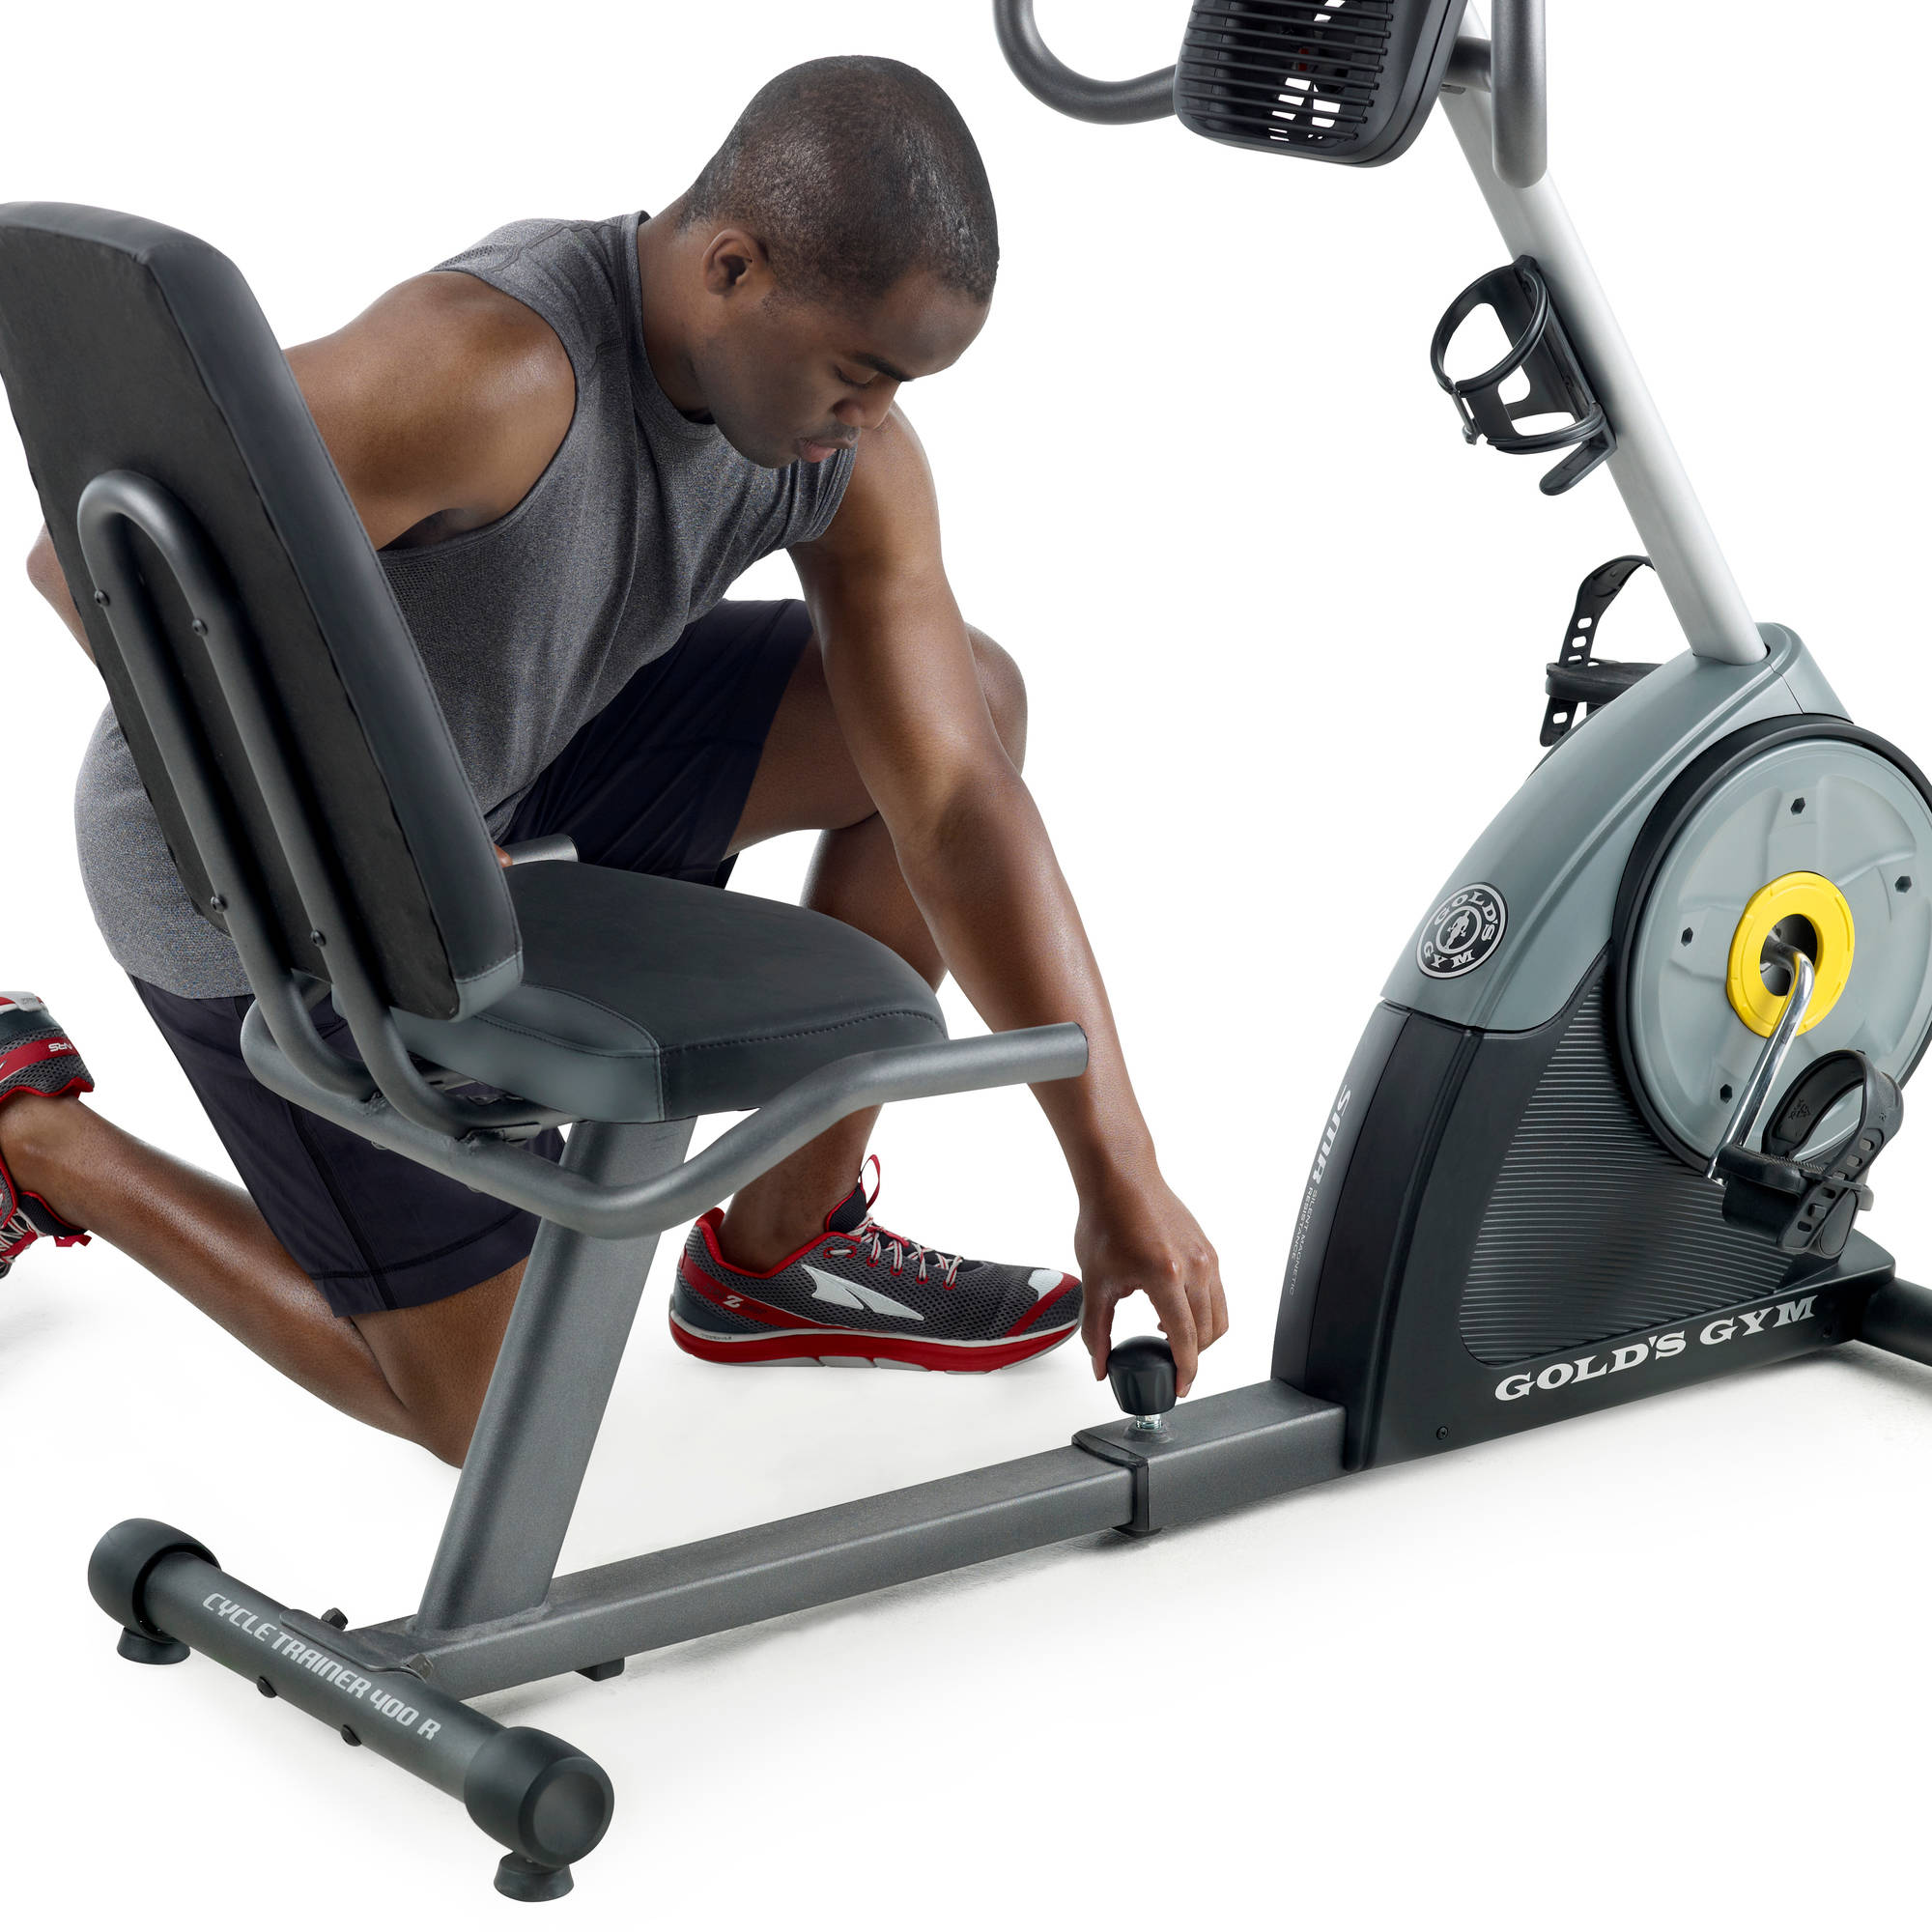gym_bike: (2, 2, 1891, 1863)
